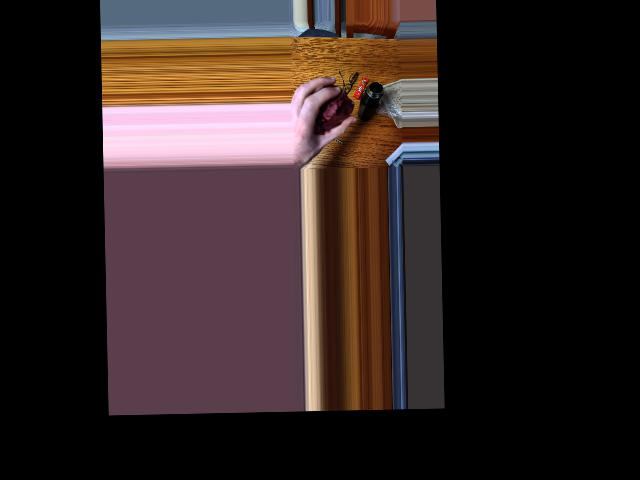onion: (311, 88, 350, 135)
